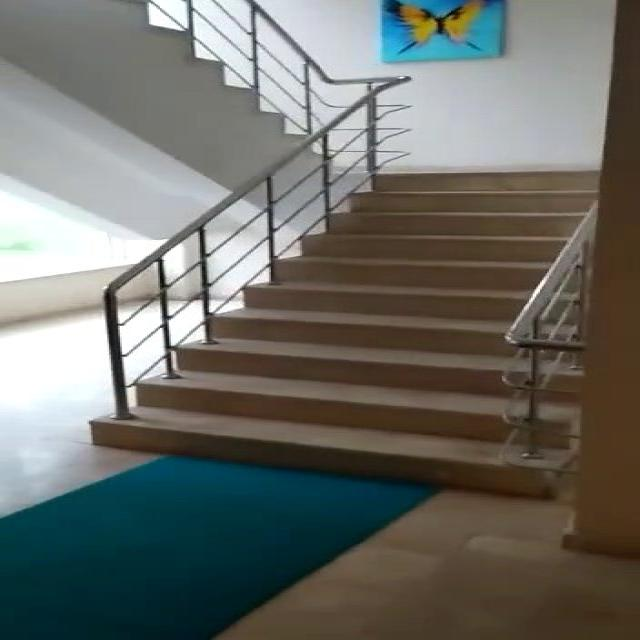upstair: (96, 148, 611, 502)
